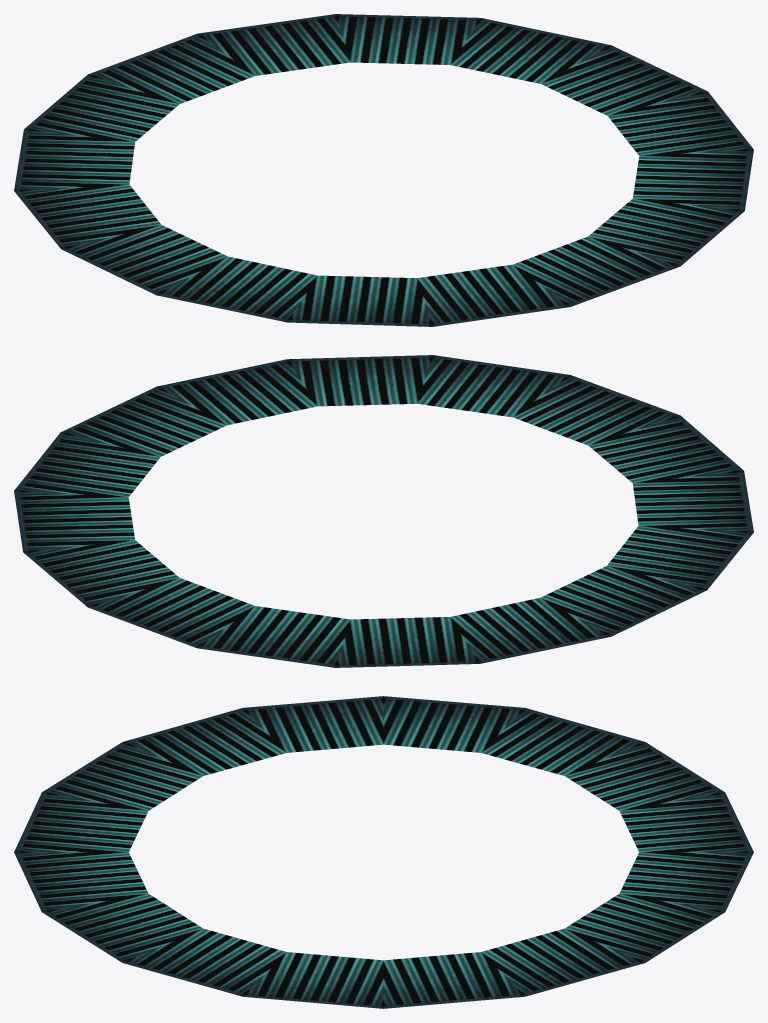
The model's file is PelagicIIExploration_Alpha_149.glb.
3 renders of one model, top to bottom at view 1: azimuth 30°, elevation 25°; view 2: azimuth 150°, elevation 25°; view 3: azimuth 270°, elevation 25°, orthographic.
Visible parts, largest first — view 1: PelagicIIExploration_Alpha_149; view 2: PelagicIIExploration_Alpha_149; view 3: PelagicIIExploration_Alpha_149.
Boxes of the visible parts, x1=… form: PelagicIIExploration_Alpha_149: x1=14, y1=14, x2=753, y2=326; PelagicIIExploration_Alpha_149: x1=14, y1=355, x2=753, y2=667; PelagicIIExploration_Alpha_149: x1=14, y1=696, x2=753, y2=1008.
Size of the model in its own units: 103 by 2.31e-14 by 103.
1 material, 1 textured.
